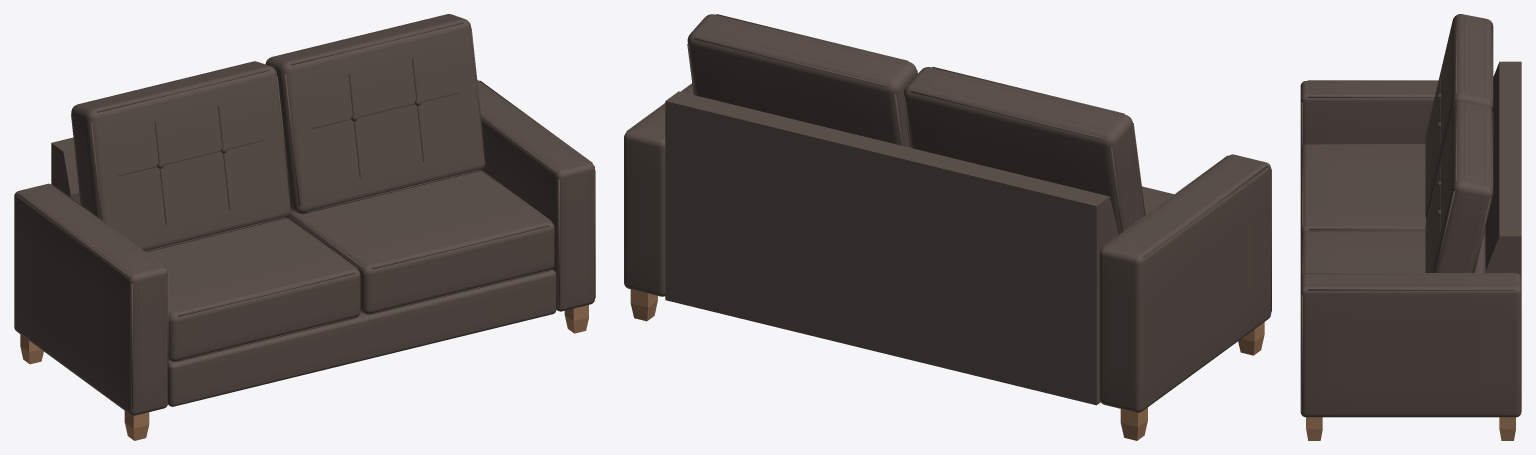
Rendered from benza_180x80.glb.
3 views of the same model, side by side, from view 1: azimuth 30°, elevation 25°; view 2: azimuth 150°, elevation 25°; view 3: azimuth 270°, elevation 25° (orthographic). The views are drawn at different scales.
Parts seen in each view (by area): view 1: p1, p2, p0; view 2: p1, p0, p2; view 3: p1, p2, p0.
Part boxes in pixels (x1,y1,x2,y2): p1: (14,14,595,415); p2: (23,16,590,409); p0: (20,305,588,440); p1: (624,14,1271,412); p0: (630,289,1264,440); p2: (634,18,1260,253); p1: (1300,14,1521,417); p2: (1310,16,1513,285); p0: (1306,417,1515,440).
Size of the model in its own units: 1.8 by 0.9642 by 0.8006.
3 materials, 2 textured.
